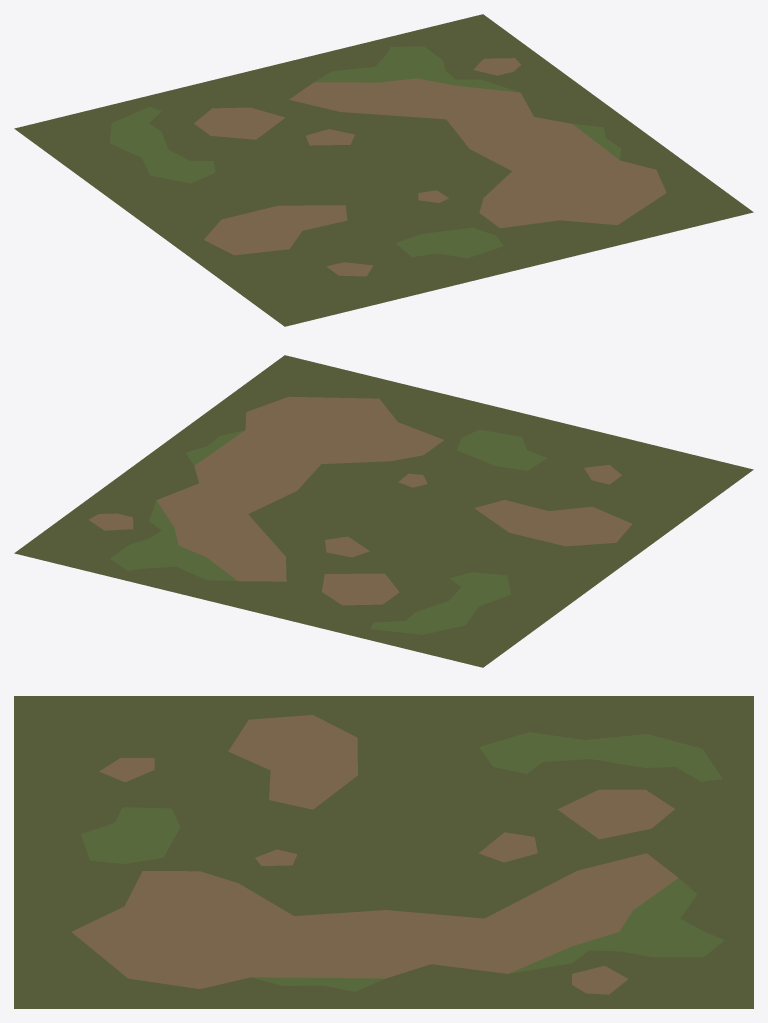
File: SM_Env_FloorTile_07.gltf
The picture shows the model from 3 angles, top to bottom: view 1: azimuth 30°, elevation 25°; view 2: azimuth 150°, elevation 25°; view 3: azimuth 270°, elevation 25°; orthographic projection. The views are drawn at different scales.
Parts seen in each view (by area): view 1: SM_Env_FloorTile_07; view 2: SM_Env_FloorTile_07; view 3: SM_Env_FloorTile_07.
Part boxes in pixels (box(x1,y1,x2,y2)): SM_Env_FloorTile_07: box(14, 14, 753, 326); SM_Env_FloorTile_07: box(14, 355, 753, 667); SM_Env_FloorTile_07: box(14, 696, 753, 1008).
Bounding box in the file's own units: 3 × 5.06e-07 × 3.
Materials: 1 (1 with a texture image).
